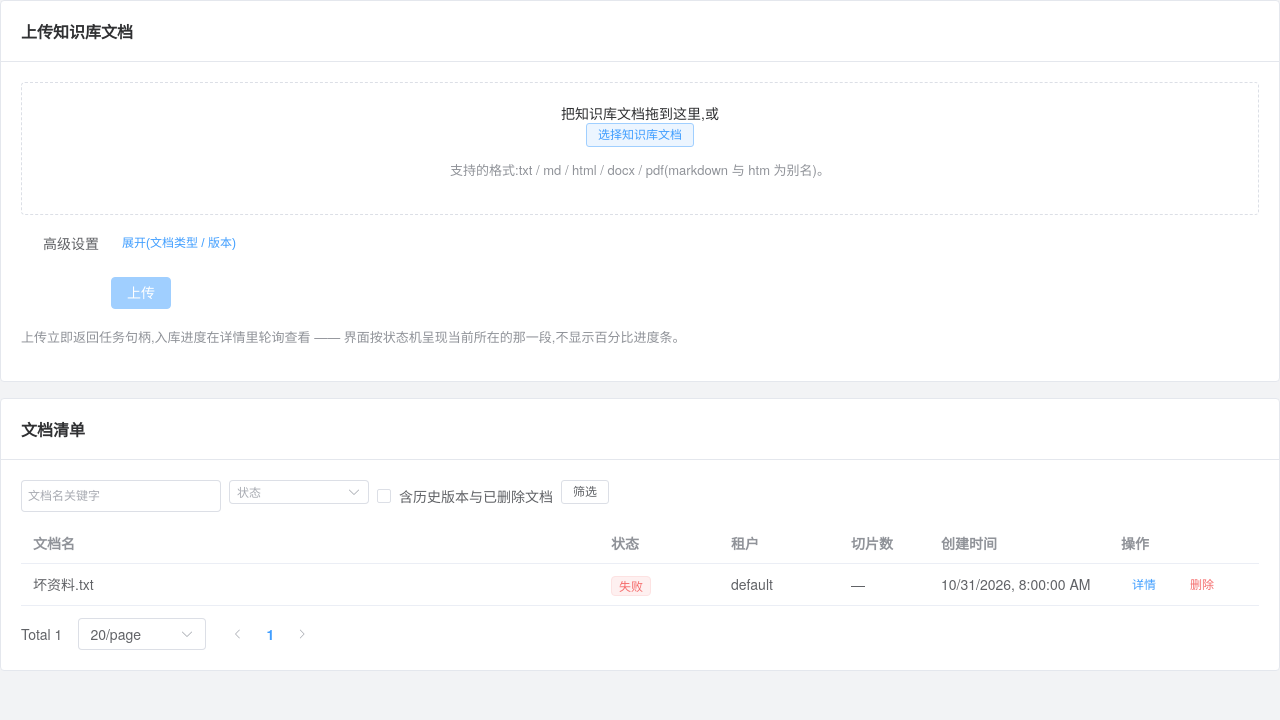
知识库文档页组件行为 › 失败可恢复 › 失败状态显示失败原因与重新上传入口
What coordinates should you click on to do the following:
click the button with test id "documents-detail-doc-bad"
I would click on:
 (1144, 585)
Its box is [1121, 573, 1167, 597].
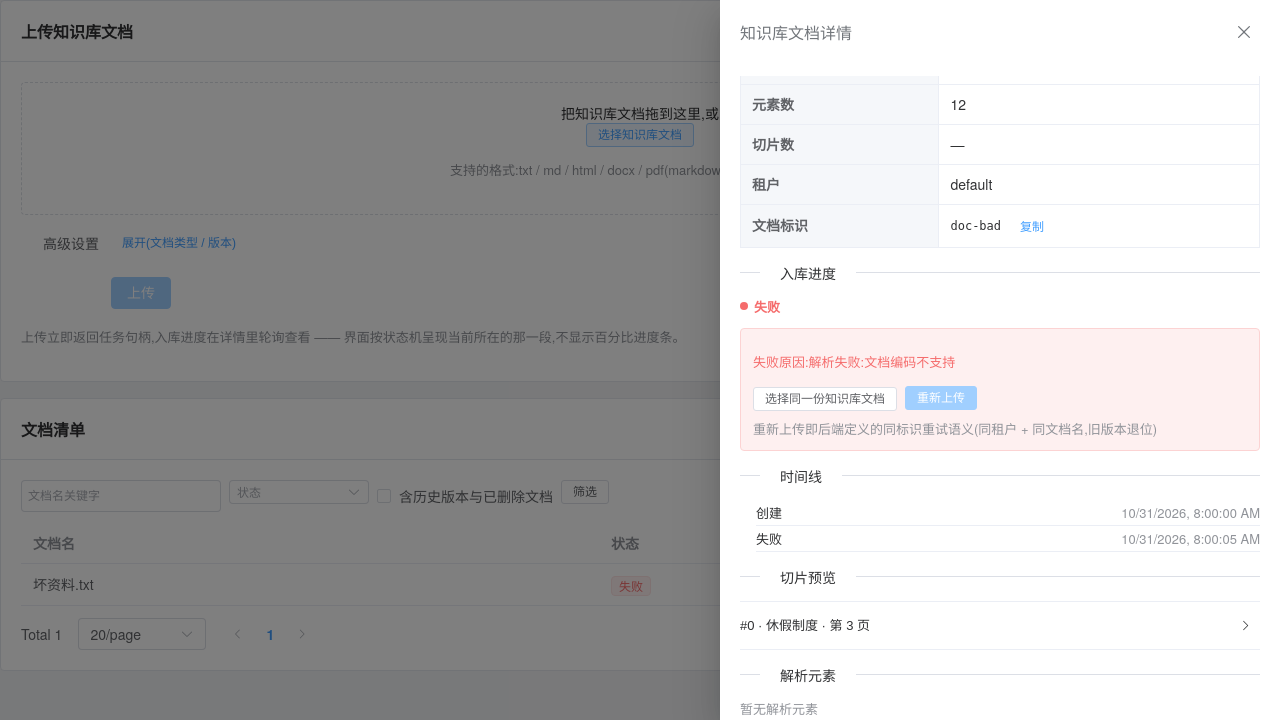
expect the text with test id "documents-error-reason" shows "解析失败:文档编码不支持": met, box [753, 352, 955, 371]
expect the button with test id "documents-reupload" is shown: met, box [905, 386, 977, 410]
